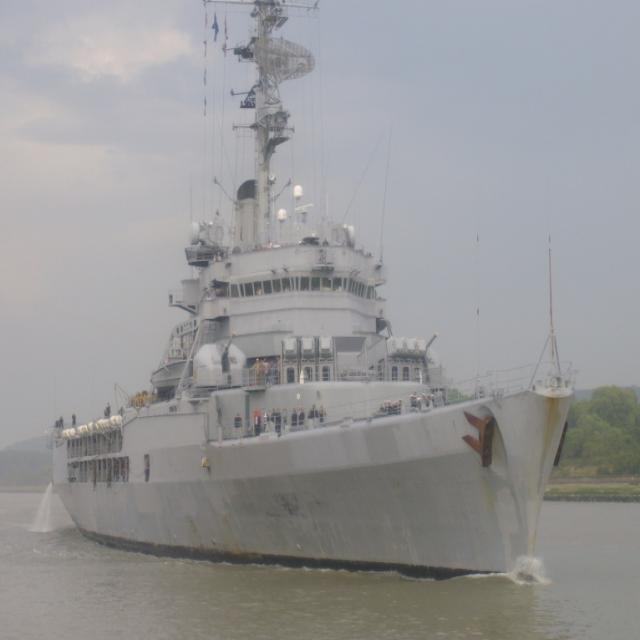Portanaves: (36, 1, 585, 581)
